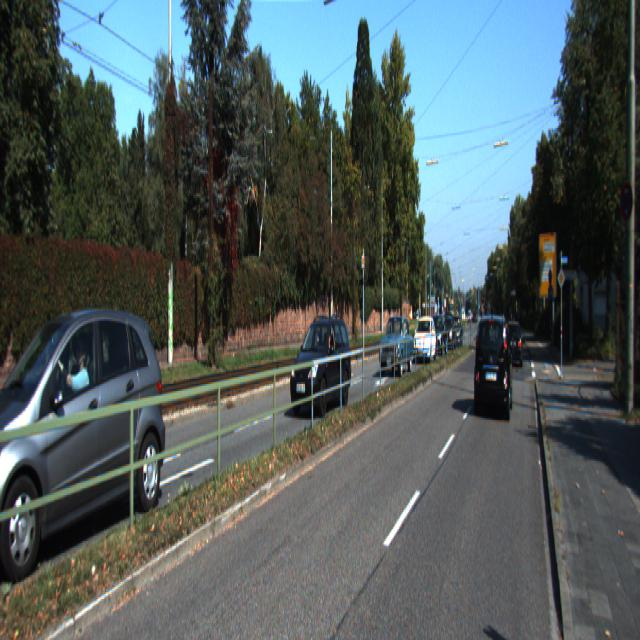Car: (0, 294, 170, 590), (290, 313, 354, 419), (474, 310, 514, 420), (380, 313, 416, 376), (413, 314, 437, 365), (503, 318, 521, 369), (429, 311, 448, 356), (441, 310, 457, 350)
